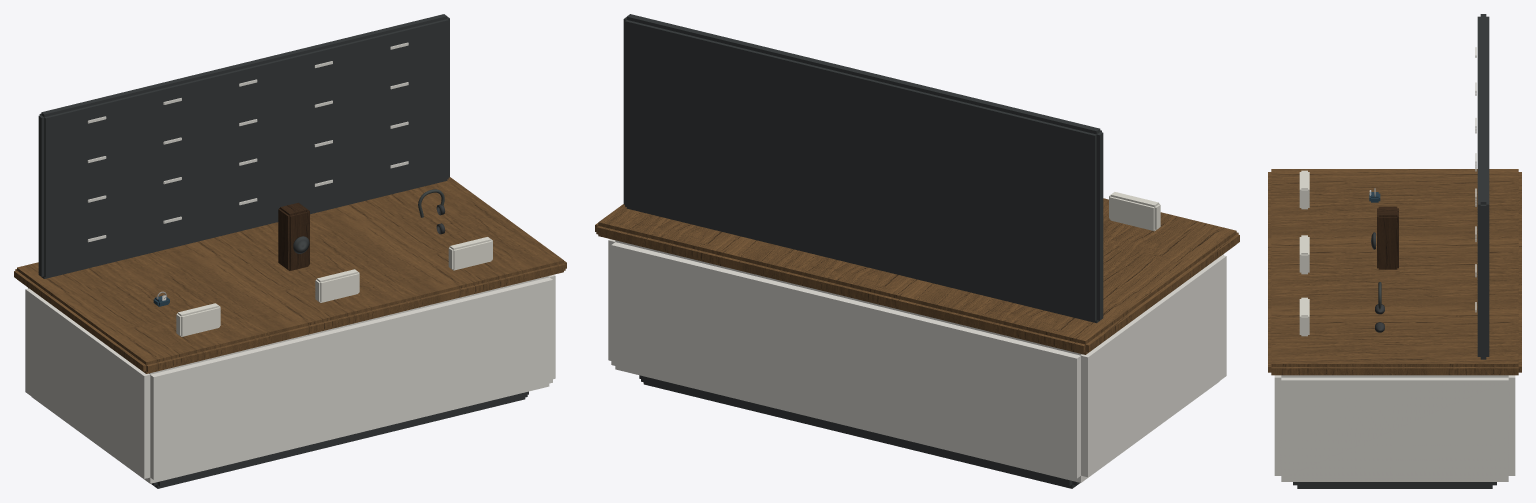
File: accessory_consult_v293.glb
The picture shows the model from 3 angles, left to right: view 1: azimuth 30°, elevation 25°; view 2: azimuth 150°, elevation 25°; view 3: azimuth 270°, elevation 25°; orthographic projection. The views are drawn at different scales.
Visible parts, largest first — view 1: accessory_consult_v293_Anodised_graphite, accessory_consult_v293_Warm_white_coating, accessory_consult_v293_CC0_Oak_veneer, accessory_consult_v293_Paper_page_edges, accessory_consult_v293_CC0_Smoked_walnut.001; view 2: accessory_consult_v293_Anodised_graphite, accessory_consult_v293_Warm_white_coating, accessory_consult_v293_CC0_Oak_veneer, accessory_consult_v293_Paper_page_edges; view 3: accessory_consult_v293_CC0_Oak_veneer, accessory_consult_v293_Warm_white_coating, accessory_consult_v293_Anodised_graphite, accessory_consult_v293_CC0_Smoked_walnut.001, accessory_consult_v293_Paper_page_edges.
Boxes of the visible parts, <box> form: accessory_consult_v293_Anodised_graphite: <box>38,14,528,488</box>; accessory_consult_v293_Warm_white_coating: <box>25,42,555,483</box>; accessory_consult_v293_CC0_Oak_veneer: <box>14,177,566,373</box>; accessory_consult_v293_Paper_page_edges: <box>176,237,492,336</box>; accessory_consult_v293_CC0_Smoked_walnut.001: <box>278,202,309,270</box>; accessory_consult_v293_Anodised_graphite: <box>623,14,1103,488</box>; accessory_consult_v293_Warm_white_coating: <box>608,239,1226,482</box>; accessory_consult_v293_CC0_Oak_veneer: <box>595,198,1239,354</box>; accessory_consult_v293_Paper_page_edges: <box>1109,192,1160,231</box>; accessory_consult_v293_CC0_Oak_veneer: <box>1268,169,1521,375</box>; accessory_consult_v293_Warm_white_coating: <box>1274,47,1515,481</box>; accessory_consult_v293_Anodised_graphite: <box>1293,14,1496,488</box>; accessory_consult_v293_CC0_Smoked_walnut.001: <box>1377,206,1398,269</box>; accessory_consult_v293_Paper_page_edges: <box>1299,170,1309,336</box>.
Bounding box in the file's own units: 2.8 × 1.95 × 1.52.
Materials: 13 (2 with a texture image).
